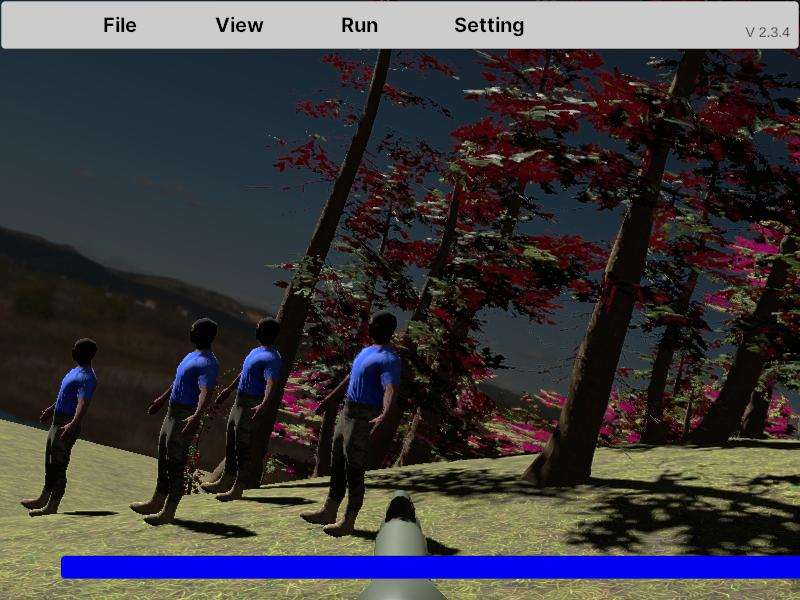Human: (298, 306, 405, 540), (129, 314, 222, 524), (202, 316, 285, 501), (22, 336, 99, 519)
